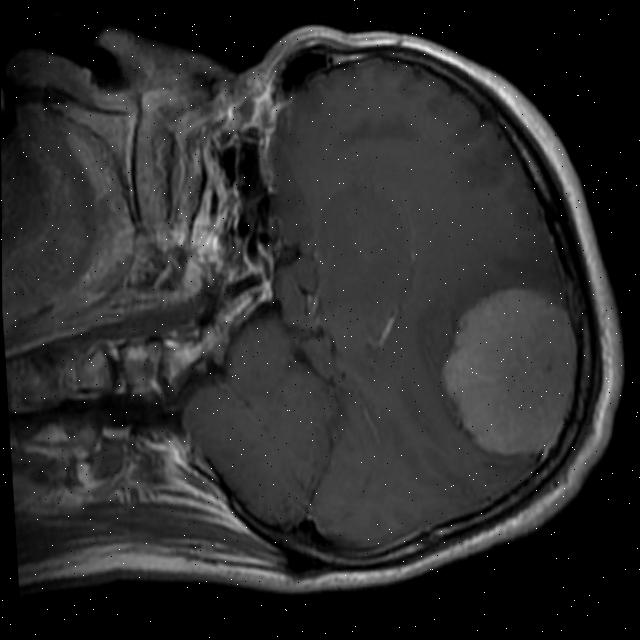Meningioma: (436, 284, 583, 462)
